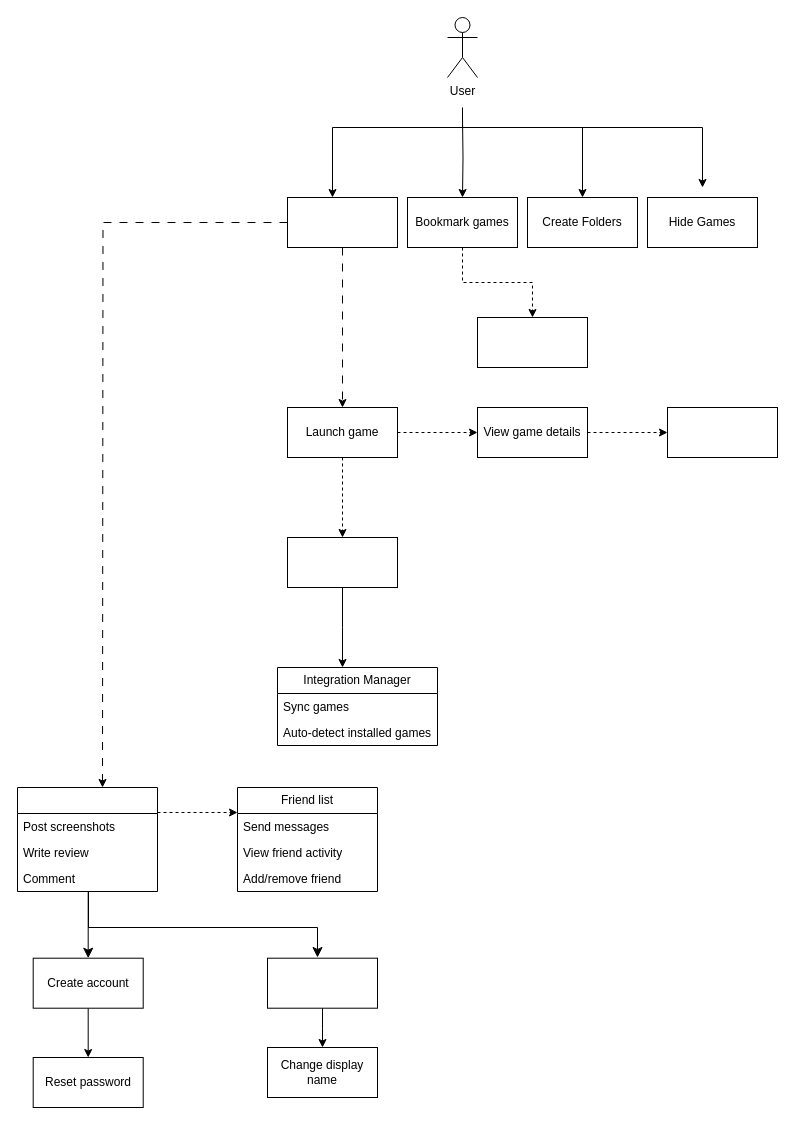
Image size: 795x1125. Some labels were removed from this diagram. Each missing label, with the box of its shape:
Browse Library: (286, 196, 398, 248)
Community features: (16, 786, 158, 892)
Connect launchers: (286, 536, 398, 588)
Login/logout: (266, 957, 378, 1008)
Move game to folder: (476, 316, 588, 368)
View playtime: (666, 406, 778, 458)
